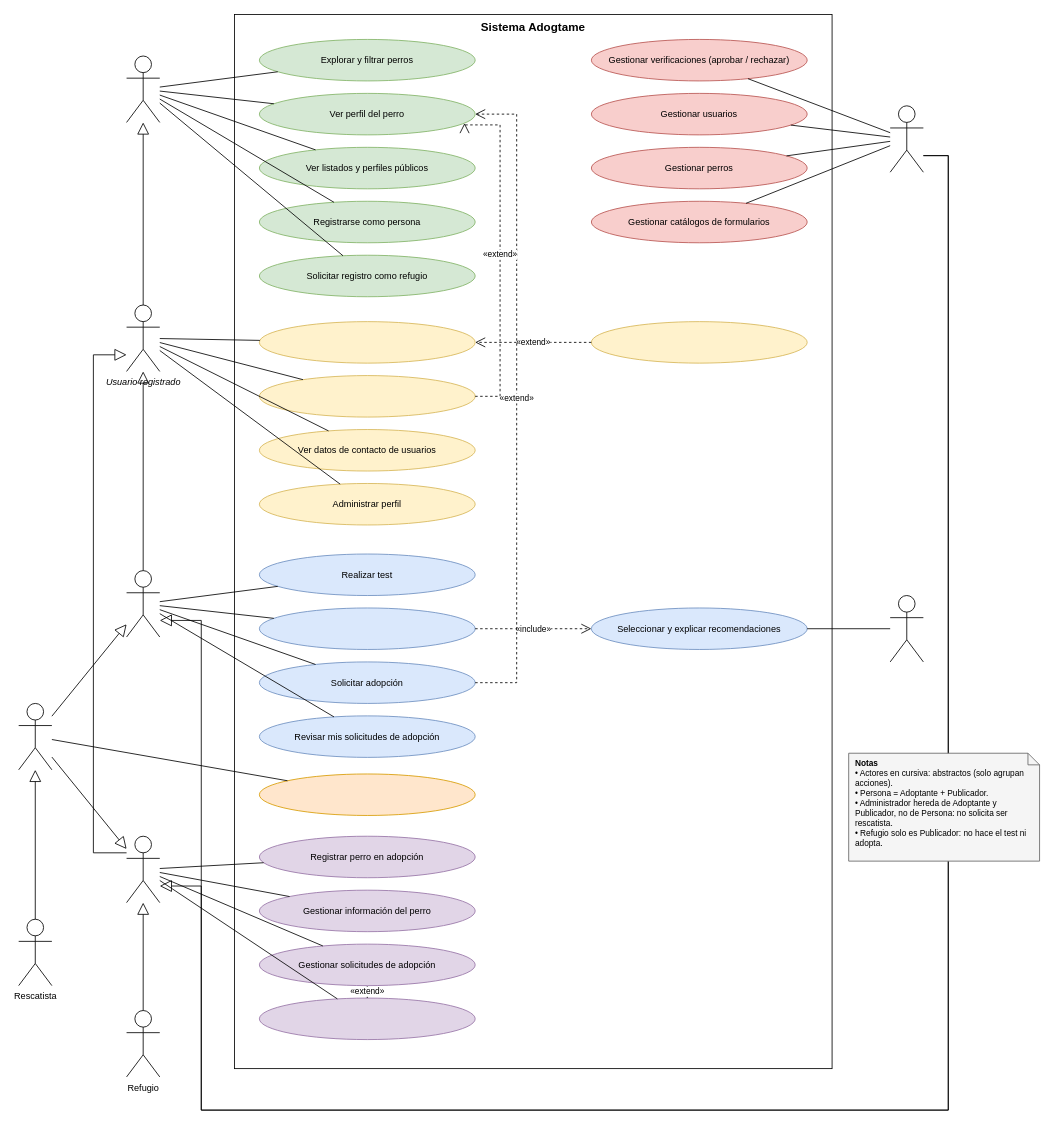
This 1054x1136 diagram has some shape labels left out. The centre of each missing label's shape, as x and y in pixels:
Administrador: point 906,138
Adoptante: point 143,603
Cambiar estado de adopción del perro: point 367,1018
Guardar perros en favoritos: point 367,396
Iniciar sesión: point 367,342
Persona: point 35,736
Publicador: point 143,869
Recuperar contraseña: point 699,342
Revisar recomendaciones de perros: point 367,628
Solicitar verificación como rescatista: point 367,794
Visitante: point 143,88
«sistema» Servicio de IA: point 906,628
